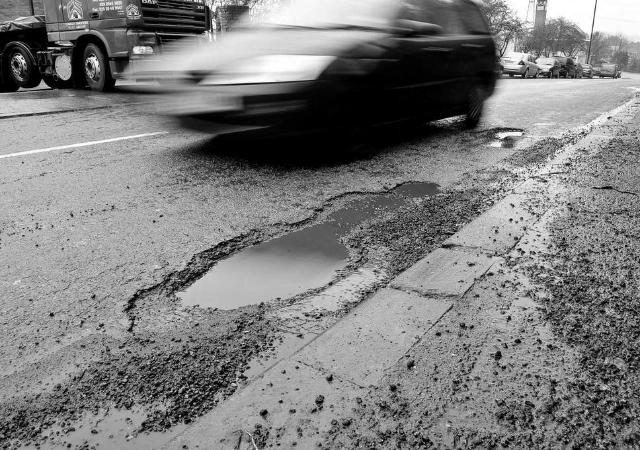Pothole: (120, 174, 464, 361), (472, 120, 530, 162)
